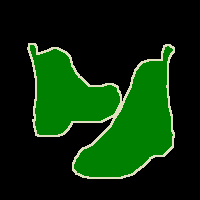shoe: (73, 44, 174, 178), (28, 43, 121, 136)
